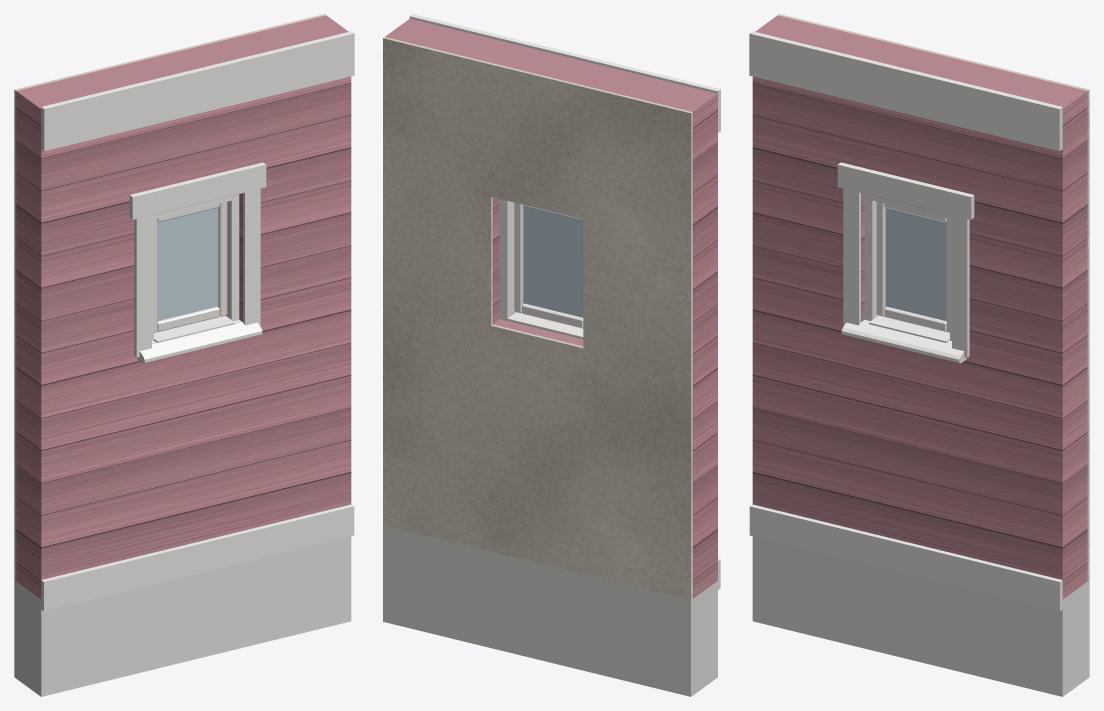
The model's file is wall_a_small.glb.
3 views of the same model, side by side, from view 1: azimuth 30°, elevation 25°; view 2: azimuth 150°, elevation 25°; view 3: azimuth 330°, elevation 25° (orthographic).
Parts seen in each view (by area): view 1: wall_a_small_siding_a, wall_a_small_trim, wall_a_small_lattice, wall_a_small_glass, wall_a_small_sash, wall_a_small_frame, wall_a_small_plaster; view 2: wall_a_small_plaster, wall_a_small_lattice, wall_a_small_siding_a, wall_a_small_glass, wall_a_small_trim, wall_a_small_frame, wall_a_small_sash; view 3: wall_a_small_siding_a, wall_a_small_trim, wall_a_small_lattice, wall_a_small_glass, wall_a_small_sash, wall_a_small_frame, wall_a_small_plaster.
Part boxes in pixels (x1,y1,x2,y2): wall_a_small_siding_a: [16, 15, 351, 599]; wall_a_small_trim: [41, 31, 354, 611]; wall_a_small_lattice: [14, 536, 351, 696]; wall_a_small_glass: [157, 208, 218, 321]; wall_a_small_sash: [154, 202, 227, 332]; wall_a_small_frame: [152, 194, 239, 340]; wall_a_small_plaster: [14, 14, 325, 580]; wall_a_small_plaster: [383, 37, 692, 599]; wall_a_small_lattice: [383, 525, 717, 696]; wall_a_small_siding_a: [385, 19, 717, 598]; wall_a_small_glass: [523, 205, 583, 317]; wall_a_small_trim: [409, 14, 720, 589]; wall_a_small_frame: [499, 199, 515, 320]; wall_a_small_sash: [514, 202, 583, 328]; wall_a_small_siding_a: [752, 15, 1087, 599]; wall_a_small_trim: [749, 31, 1062, 611]; wall_a_small_lattice: [752, 536, 1089, 696]; wall_a_small_glass: [885, 208, 946, 321]; wall_a_small_sash: [876, 202, 949, 332]; wall_a_small_frame: [864, 194, 951, 340]; wall_a_small_plaster: [778, 14, 1089, 580].
Size of the model in its own units: 2 by 3.63 by 0.38.
Materials: 7 (2 with a texture image).
